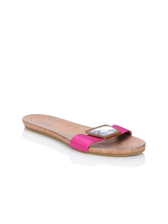shoes: (15, 107, 149, 162)
